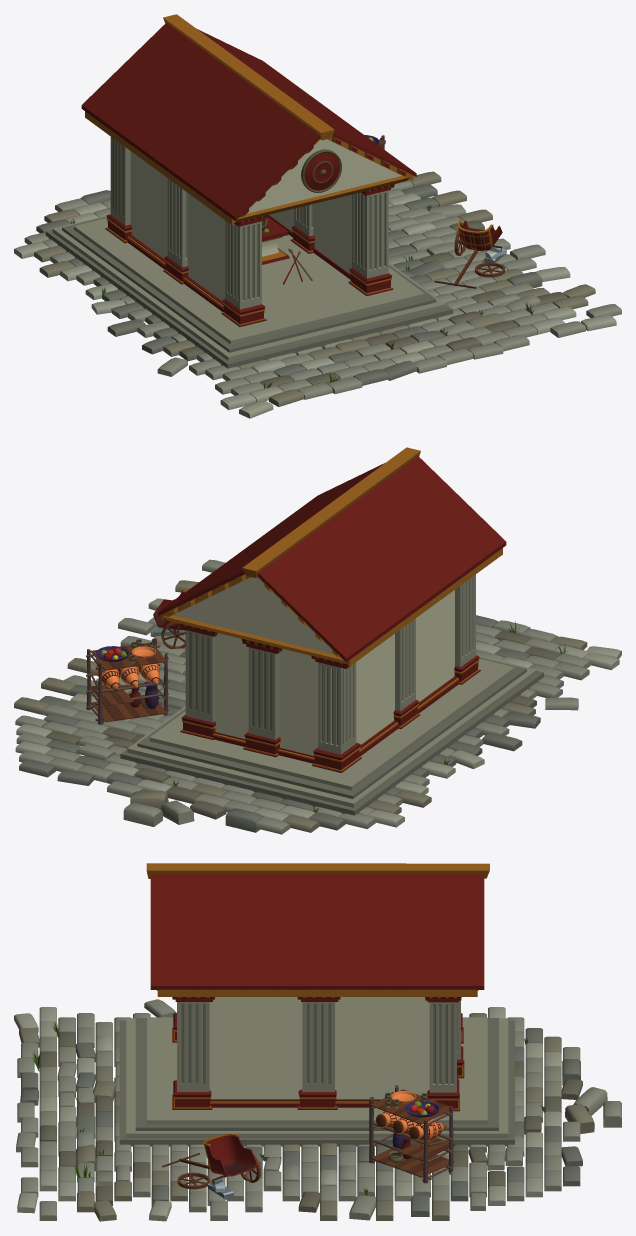
Rendered from Храм.fbx.
The picture shows the model from 3 angles, top to bottom: view 1: azimuth 30°, elevation 25°; view 2: azimuth 150°, elevation 25°; view 3: azimuth 270°, elevation 25°; orthographic projection. The views are drawn at different scales.
Parts seen in each view (by area): view 1: Cube.032, Cube.019, Cube.010, Cube, Cube.001, Cube.022, Cube.021, Cube.024, Cube.017, Cube.020, Cube.002, Cube.018 (+4 smaller); view 2: Cube.032, Cube.019, Cube.010, Cube, Cube.003, Cube.001, Cube.017, Cube.022, Cube.021, Cube.024, Cube.007, Cube.020 (+5 smaller); view 3: Cube.032, Cube.019, Cube.002, Cube.010, Cube, Cube.021, Cube.022, Cube.020, Cube.024, Cube.018, Plane, Cube.030 (+3 smaller).
Boxes of the visible parts, left/top/right/bottom form: Cube.032: left=14, top=171, right=621, bottom=418; Cube.019: left=81, top=23, right=416, bottom=220; Cube.010: left=105, top=137, right=394, bottom=326; Cube: left=74, top=218, right=424, bottom=344; Cube.001: left=130, top=151, right=225, bottom=301; Cube.022: left=52, top=215, right=445, bottom=360; Cube.021: left=62, top=216, right=436, bottom=352; Cube.024: left=45, top=229, right=452, bottom=368; Cube.017: left=247, top=139, right=401, bottom=213; Cube.020: left=163, top=14, right=334, bottom=140; Cube.002: left=269, top=194, right=351, bottom=274; Cube.018: left=85, top=111, right=413, bottom=224; Cube.032: left=14, top=559, right=621, bottom=834; Cube.019: left=158, top=456, right=506, bottom=662; Cube.010: left=179, top=574, right=480, bottom=772; Cube: left=149, top=658, right=514, bottom=790; Cube.003: left=214, top=633, right=318, bottom=755; Cube.001: left=356, top=590, right=454, bottom=744; Cube.017: left=173, top=577, right=334, bottom=654; Cube.022: left=127, top=655, right=536, bottom=807; Cube.021: left=137, top=657, right=526, bottom=798; Cube.024: left=120, top=671, right=543, bottom=815; Cube.007: left=241, top=639, right=282, bottom=757; Cube.020: left=242, top=447, right=420, bottom=577; Cube.032: left=14, top=999, right=621, bottom=1221; Cube.019: left=150, top=874, right=484, bottom=989; Cube.002: left=209, top=997, right=429, bottom=1099; Cube.010: left=172, top=997, right=463, bottom=1111; Cube: left=147, top=1017, right=487, bottom=1124; Cube.021: left=135, top=1018, right=498, bottom=1130; Cube.022: left=126, top=1018, right=508, bottom=1137; Cube.020: left=146, top=863, right=489, bottom=878; Cube.024: left=119, top=1020, right=514, bottom=1146; Cube.018: left=157, top=989, right=477, bottom=996; Plane: left=204, top=1135, right=256, bottom=1176; Cube.030: left=370, top=1089, right=454, bottom=1177.
Size of the model in its own units: 2081 by 1026 by 2453.
